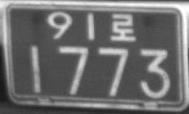1: (22, 45, 49, 92), (79, 12, 104, 40)
3: (140, 47, 171, 99)
7: (97, 46, 129, 96), (58, 45, 89, 95)
9: (46, 11, 73, 39)
로: (110, 12, 136, 43)
